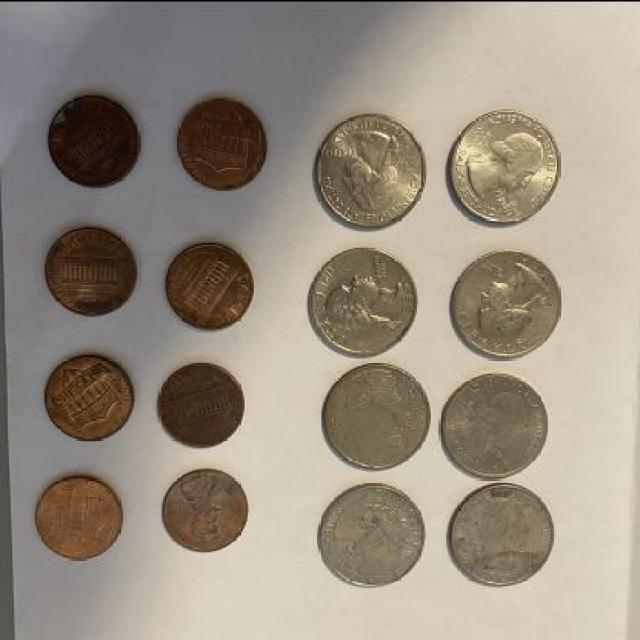Penny: (175, 95, 271, 191), (46, 92, 142, 188), (166, 238, 259, 331), (34, 468, 124, 564), (46, 226, 139, 317), (42, 349, 136, 438), (154, 357, 246, 446), (162, 466, 250, 552)
Quarter: (446, 109, 563, 229), (312, 110, 428, 228), (446, 248, 566, 358), (435, 371, 551, 478), (315, 482, 428, 590), (320, 363, 434, 468), (311, 248, 418, 356), (448, 482, 557, 588)
